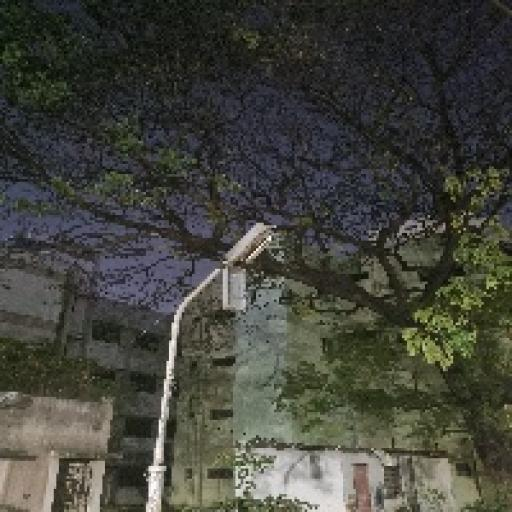Not Working: (204, 217, 285, 322)
